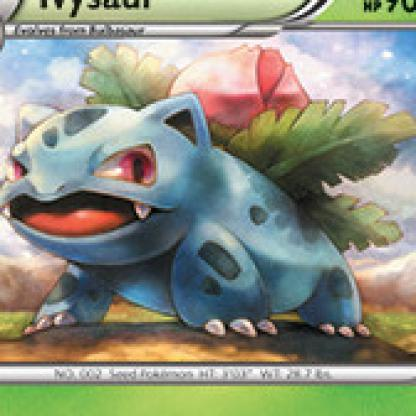Ivysaur: (1, 43, 415, 360)
